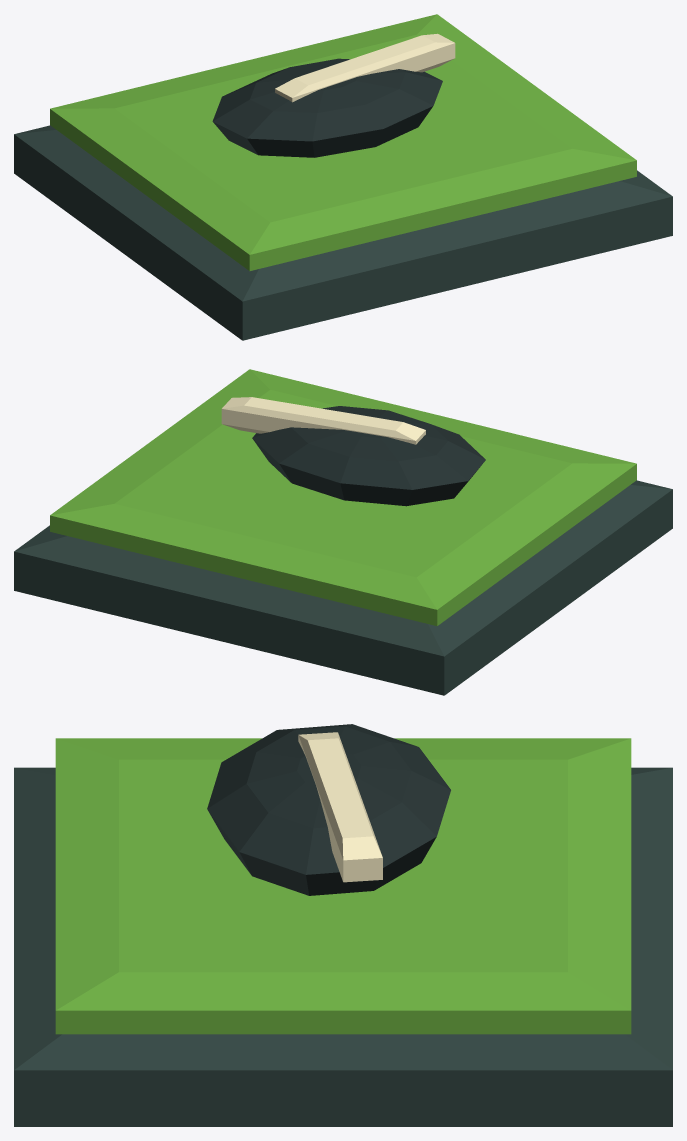
File: badge_g.obj
3 renders of one model, top to bottom at view 1: azimuth 30°, elevation 25°; view 2: azimuth 150°, elevation 25°; view 3: azimuth 270°, elevation 25°, orthographic. The views are drawn at different scales.
Parts seen in each view (by area): view 1: badge_g; view 2: badge_g; view 3: badge_g.
Boxes of the visible parts, x1,y1,x2,y2 form: badge_g: (14, 14, 672, 340); badge_g: (14, 369, 672, 695); badge_g: (14, 724, 672, 1126).
Bounding box in the file's own units: 0.25 × 0.084 × 0.23.
